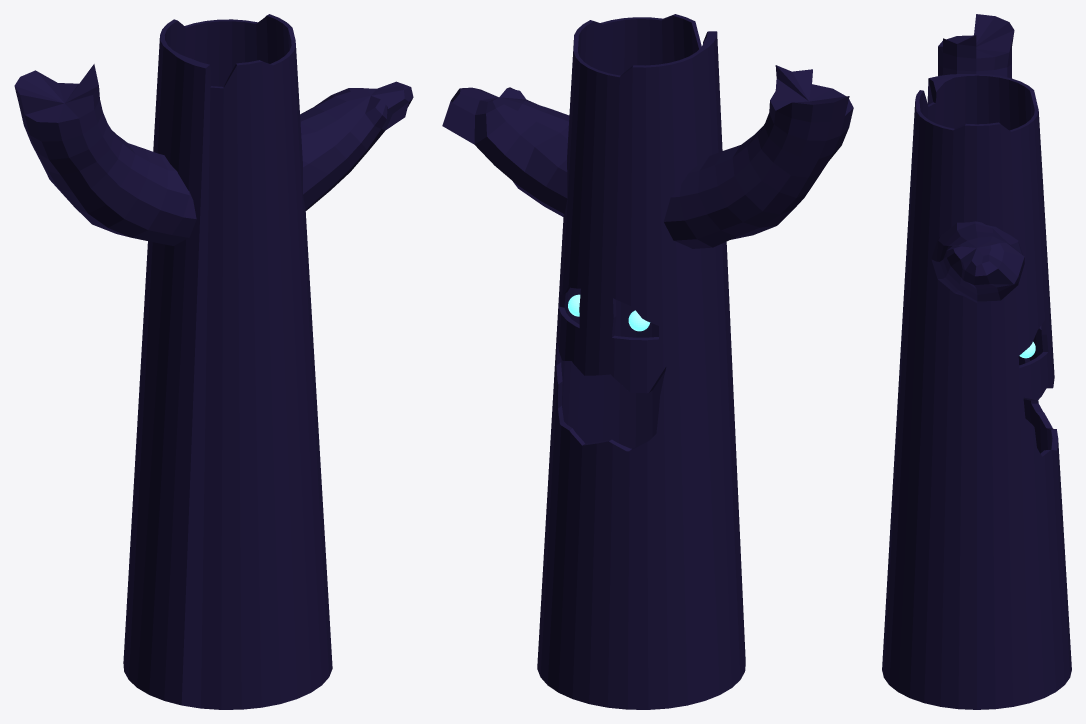
Rendered from creepy_tree.glb.
3 renders of one model, left to right at view 1: azimuth 30°, elevation 25°; view 2: azimuth 150°, elevation 25°; view 3: azimuth 270°, elevation 25°, orthographic. The views are drawn at different scales.
Visible parts, largest first — view 1: new tree, Torus; view 2: new tree, Torus; view 3: new tree, Torus.
Part boxes in pixels (box(x1,y1,x2,y2)): new tree: box(123, 14, 332, 709); Torus: box(14, 64, 413, 245); new tree: box(537, 14, 745, 709); Torus: box(442, 65, 853, 248); new tree: box(882, 74, 1071, 709); Torus: box(931, 14, 1024, 303).
Size of the model in its own units: 3.63 by 5.59 by 1.67.
